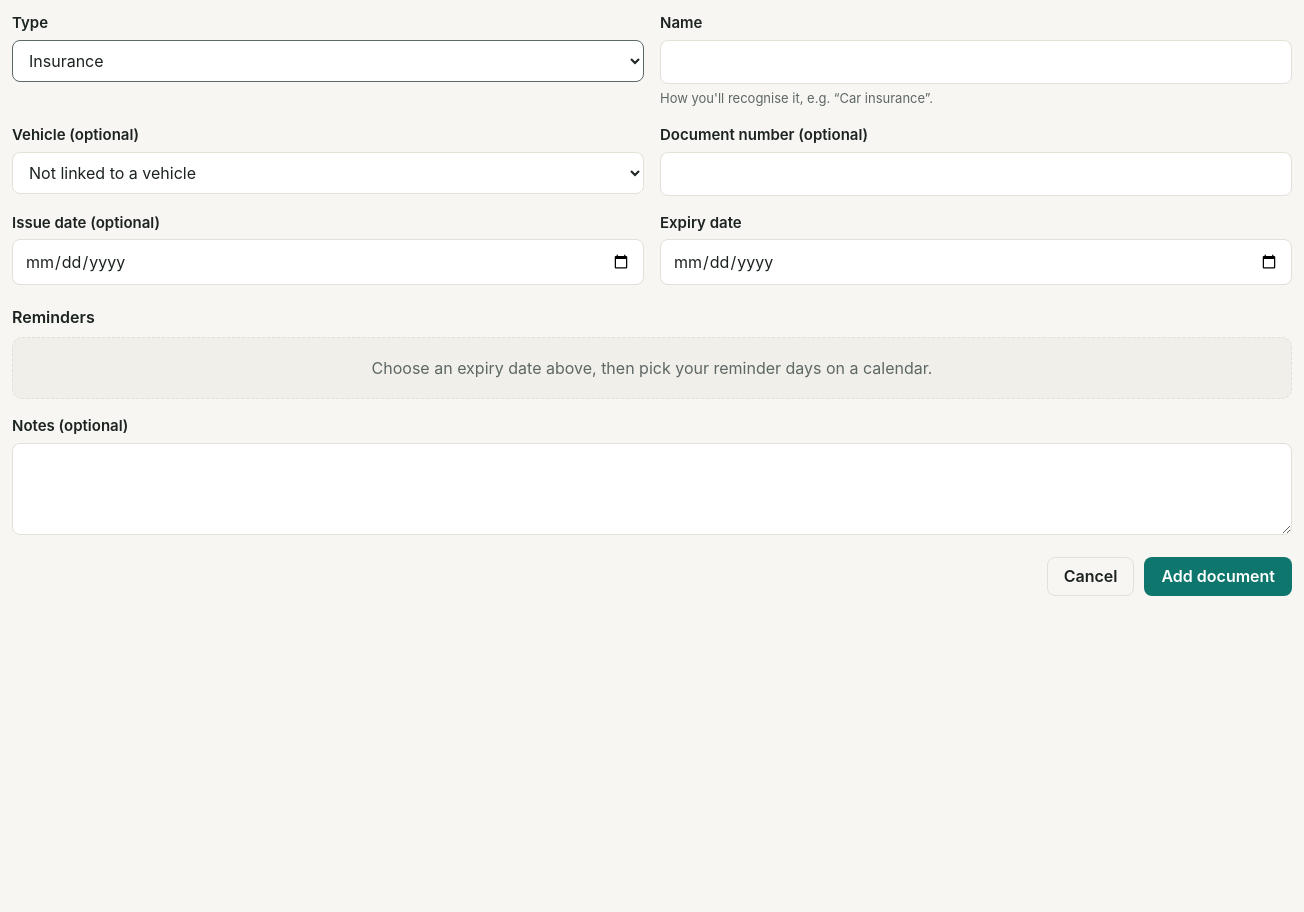
Test: DocumentForm › requires a name and an expiry date
This screenshot has width=1304, height=912.
Click the button "Add document" at (1218, 576), box x1=1144 y1=556 x2=1292 y2=596
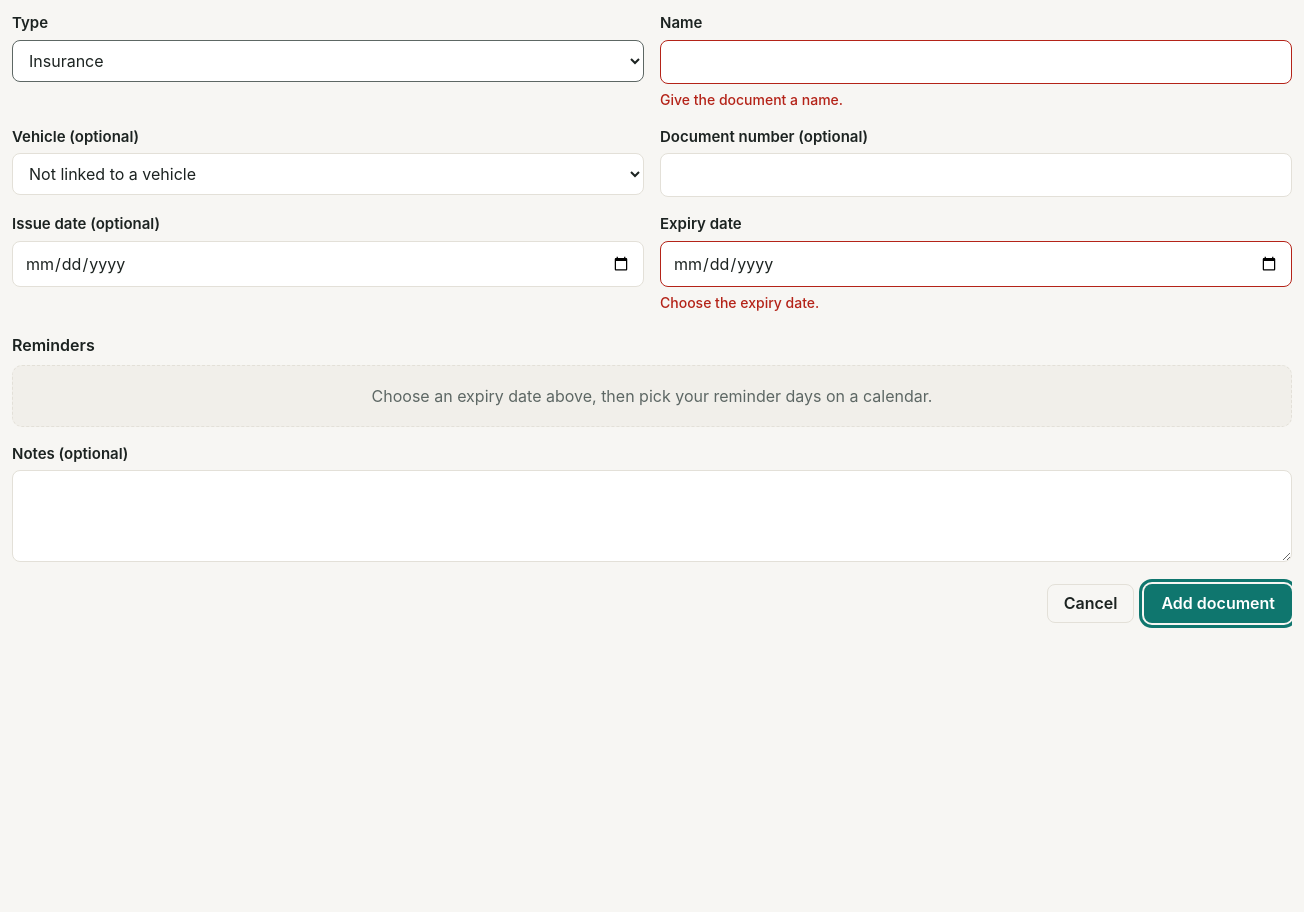
Expected: the text "Give the document a name." is shown, x1=660 y1=90 x2=843 y2=108
Expected: the text "Choose the expiry date." is shown, x1=660 y1=294 x2=819 y2=310
